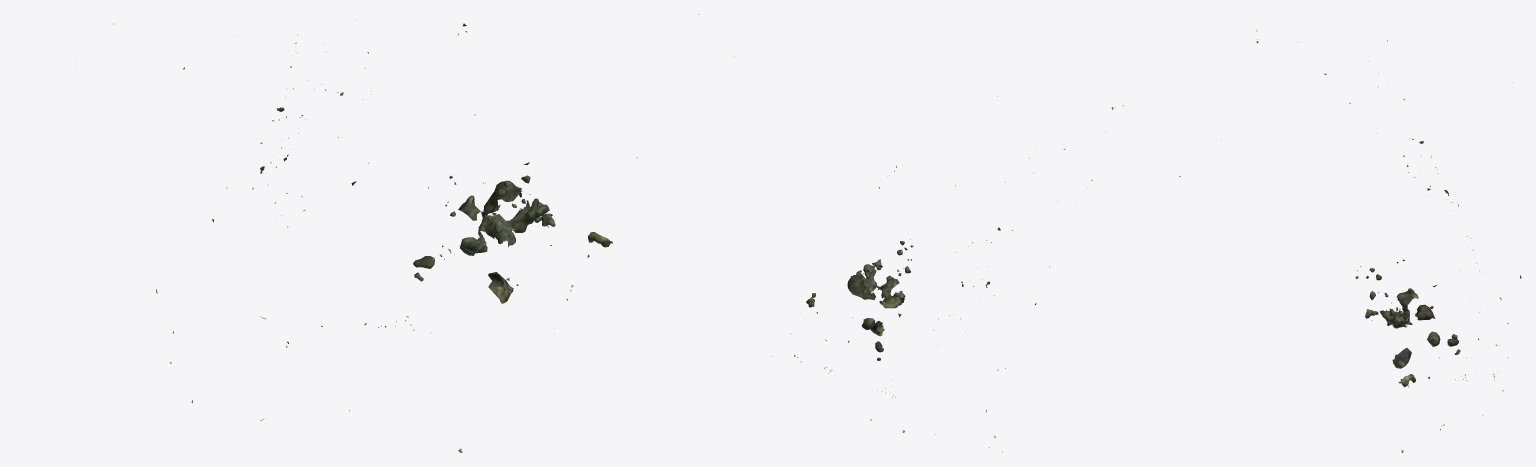
3 renders of one model, left to right at view 1: azimuth 30°, elevation 25°; view 2: azimuth 150°, elevation 25°; view 3: azimuth 270°, elevation 25°, orthographic. The views are drawn at different scales.
Bounding box in the file's own units: 8.88 × 8.36 × 8.02.
Materials: 1 (1 with a texture image).
